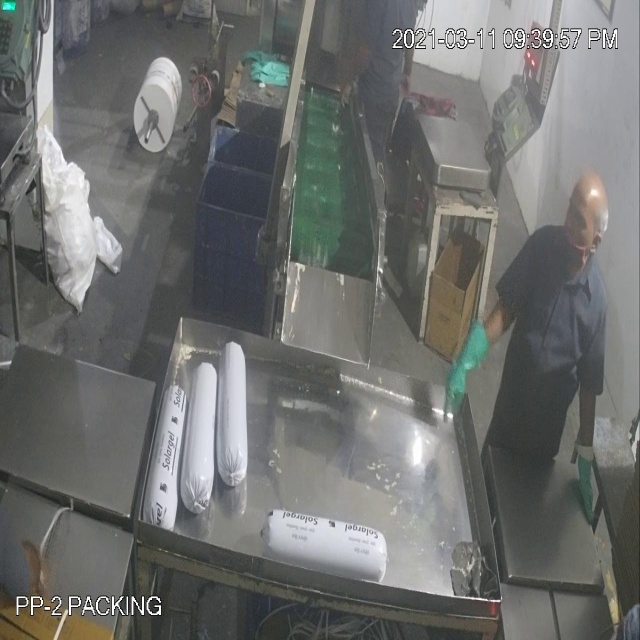Guantes: (437, 305, 492, 434), (566, 420, 604, 537)
